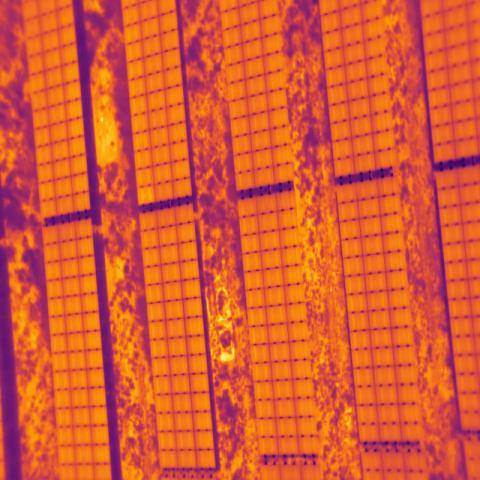fault: (136, 184, 155, 208)
